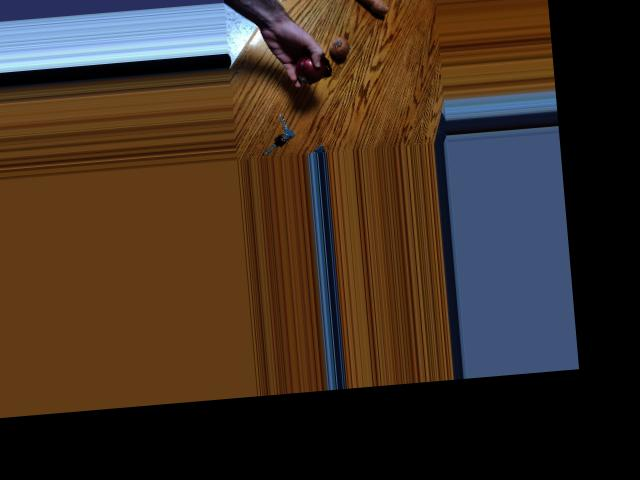onion: (293, 55, 326, 84)
